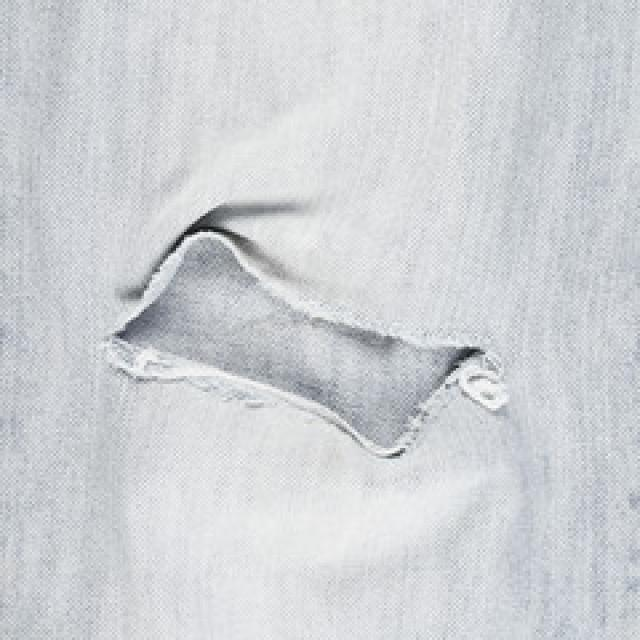Hole: (122, 237, 477, 448)
